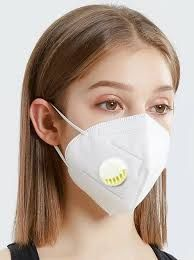with-mask: (26, 20, 174, 223)
